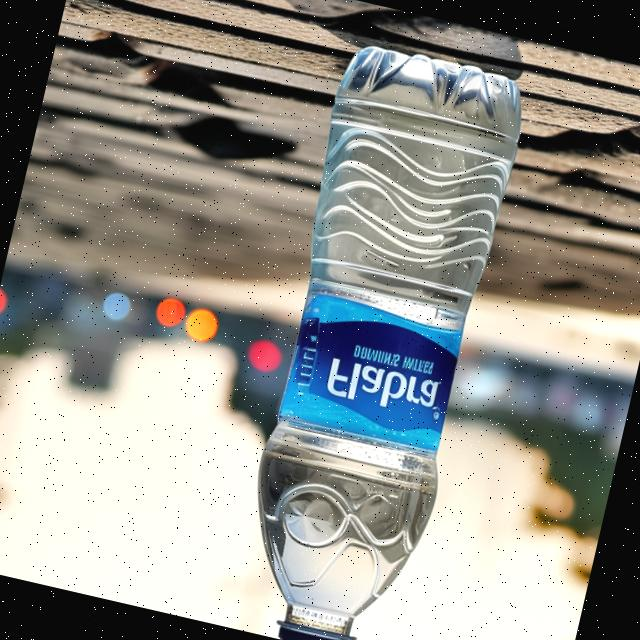plastic: (218, 34, 533, 640)
